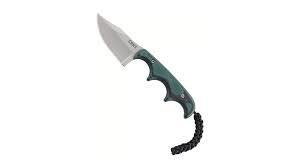Knife: (97, 14, 204, 156)
